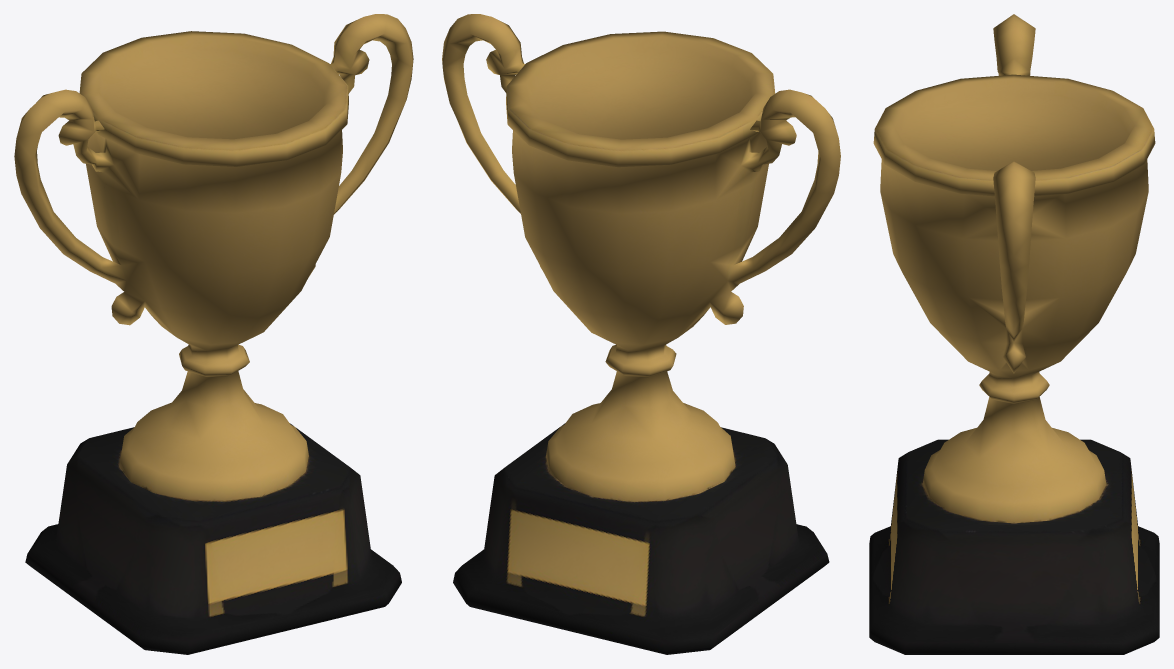
The model's file is trophy.glb.
3 views of the same model, side by side, from view 1: azimuth 30°, elevation 25°; view 2: azimuth 150°, elevation 25°; view 3: azimuth 270°, elevation 25° (orthographic). The views are drawn at different scales.
Visible parts, largest first — view 1: tripo_node_20b3cf0d-df7a-4611-b857-52811c90c816; view 2: tripo_node_20b3cf0d-df7a-4611-b857-52811c90c816; view 3: tripo_node_20b3cf0d-df7a-4611-b857-52811c90c816.
Part boxes in pixels (x1=…): tripo_node_20b3cf0d-df7a-4611-b857-52811c90c816: x1=14, y1=14, x2=413, y2=654; tripo_node_20b3cf0d-df7a-4611-b857-52811c90c816: x1=442, y1=14, x2=840, y2=654; tripo_node_20b3cf0d-df7a-4611-b857-52811c90c816: x1=869, y1=14, x2=1159, y2=654.
Size of the model in its own units: 0.7949 by 0.998 by 0.5215.
1 material, 1 textured.
